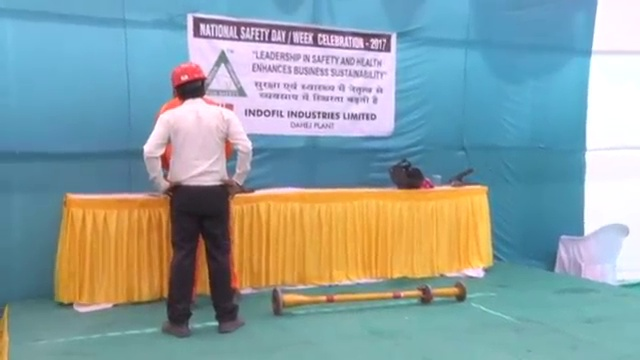helmet: (169, 62, 207, 86)
helmet_on: (168, 61, 209, 100)
person: (144, 62, 252, 336)
